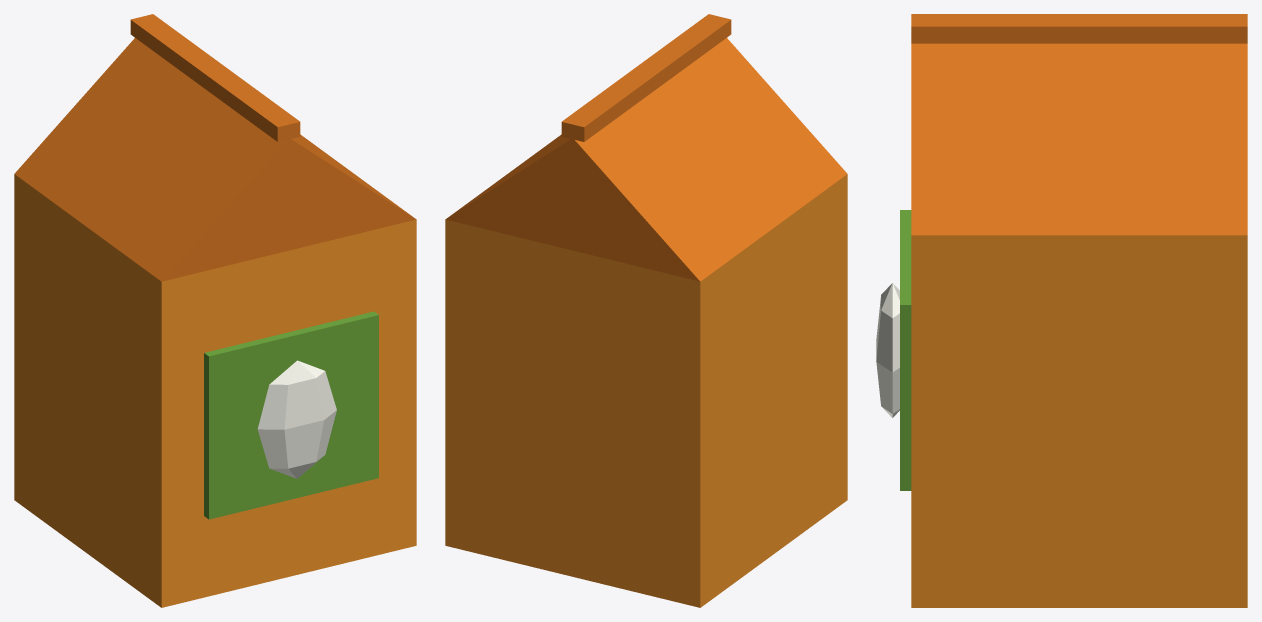
Rendered from Food_OrangeJuice.obj.
3 renders of one model, left to right at view 1: azimuth 30°, elevation 25°; view 2: azimuth 150°, elevation 25°; view 3: azimuth 270°, elevation 25°, orthographic. The views are drawn at different scales.
Size of the model in its own units: 0.9 by 1.52 by 0.9933.
